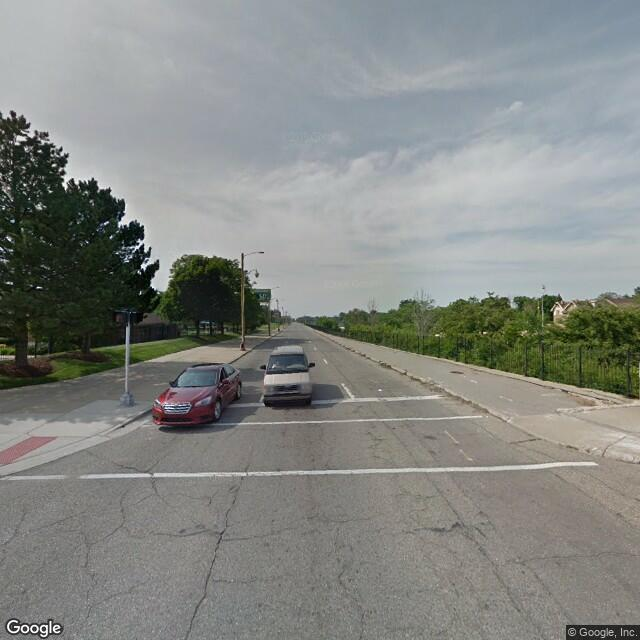litter: (376, 385, 384, 394)
